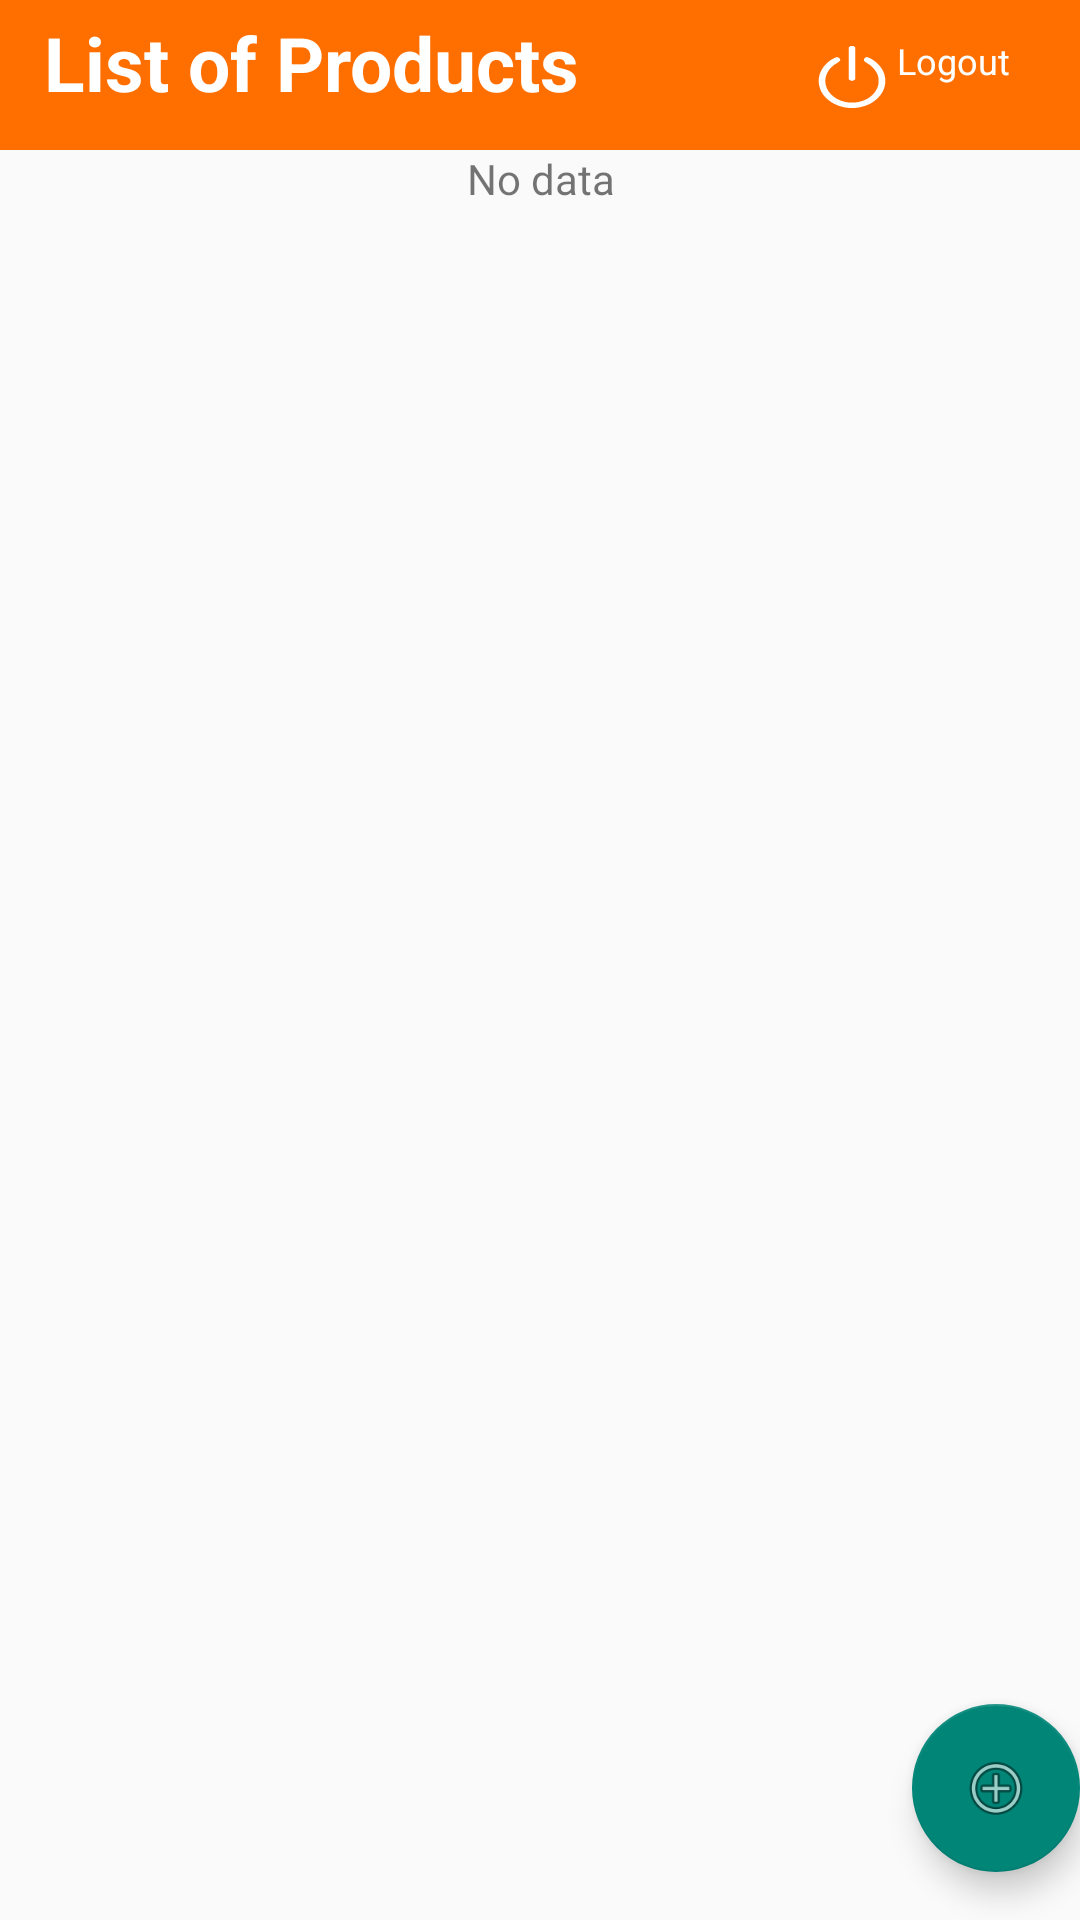

Icons on this 1080px×1920px Android screen, each with the point to tap as [x,y]:
add: [996,1788]
